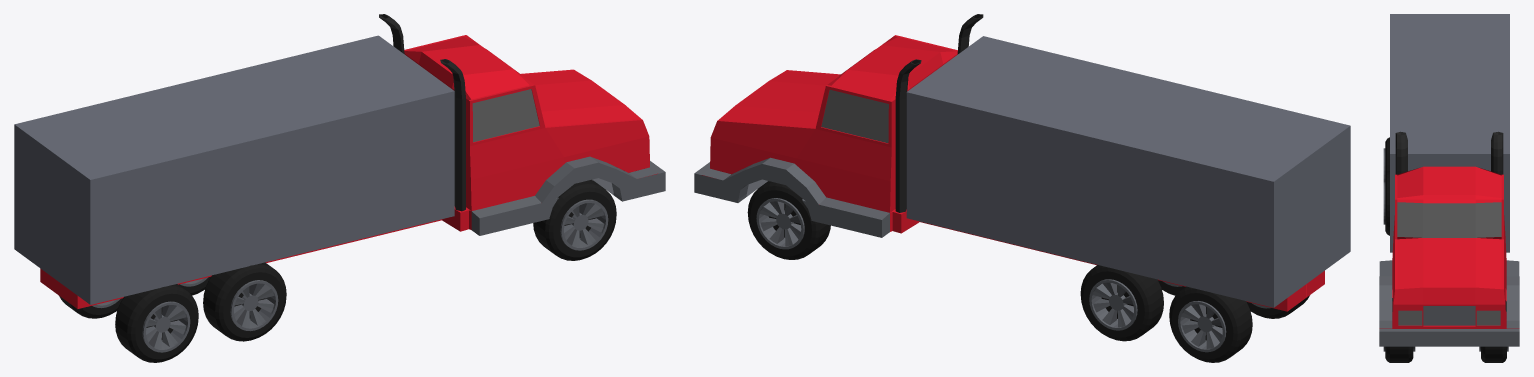
File: Cargo Truck1.fbx
3 views of the same model, side by side, from view 1: azimuth 30°, elevation 25°; view 2: azimuth 150°, elevation 25°; view 3: azimuth 270°, elevation 25° (orthographic). The views are drawn at different scales.
Parts seen in each view (by area): view 1: Tire; view 2: Tire; view 3: Tire.
Part boxes in pixels (box(x1,y1,x2,y2)): Tire: box(14, 14, 665, 362); Tire: box(694, 14, 1350, 362); Tire: box(1379, 14, 1519, 362).
Bounding box in the file's own units: 952 × 360 × 259.
